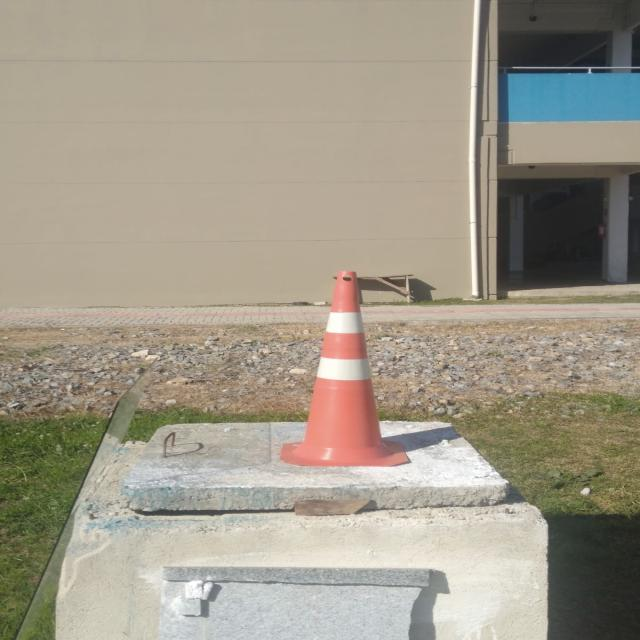cone: (278, 266, 409, 467)
